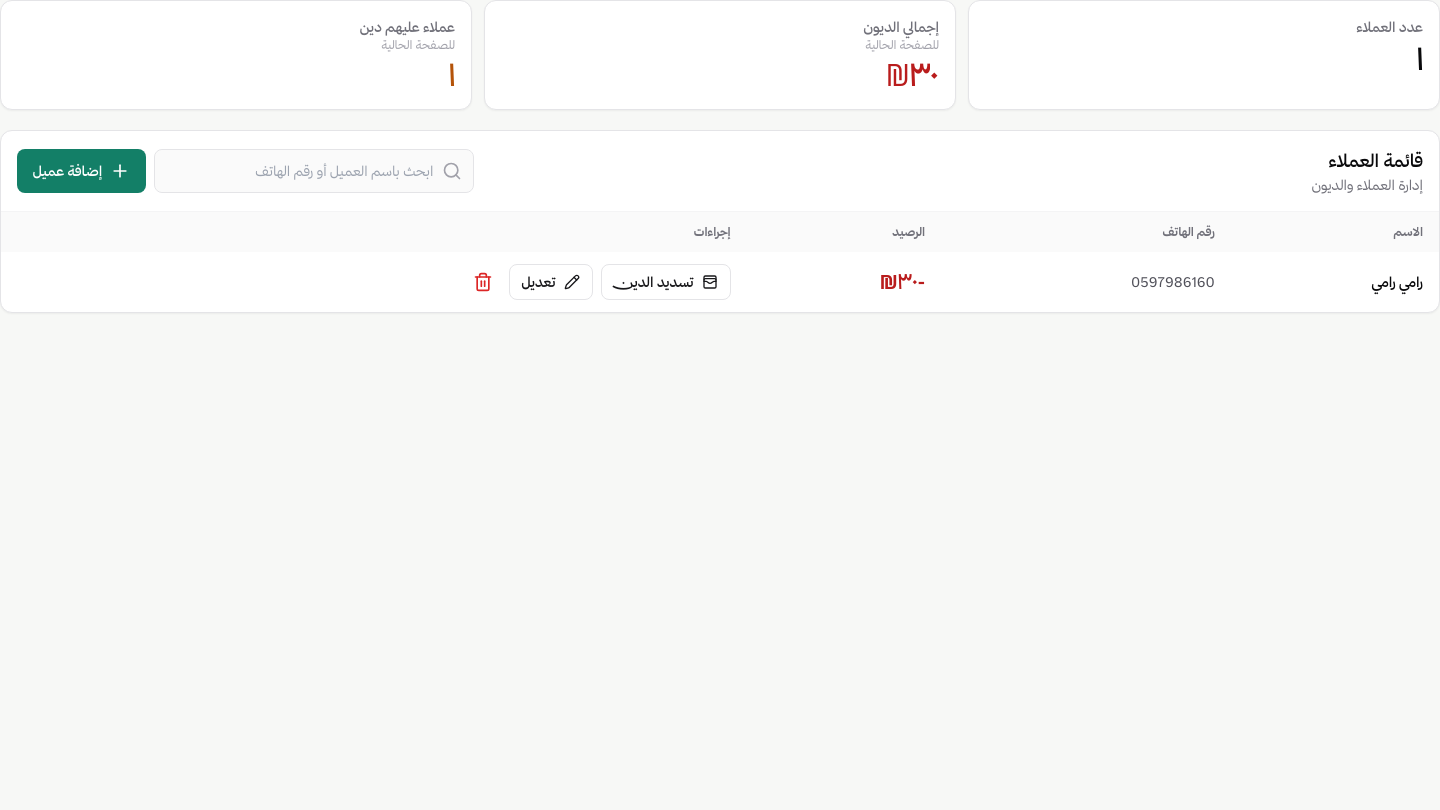
Test: CustomersPage details modal › keeps invoice products visible when the debt has payments
Click the button "تسديد الدين". click: (666, 282)
box: [601,264,731,300]
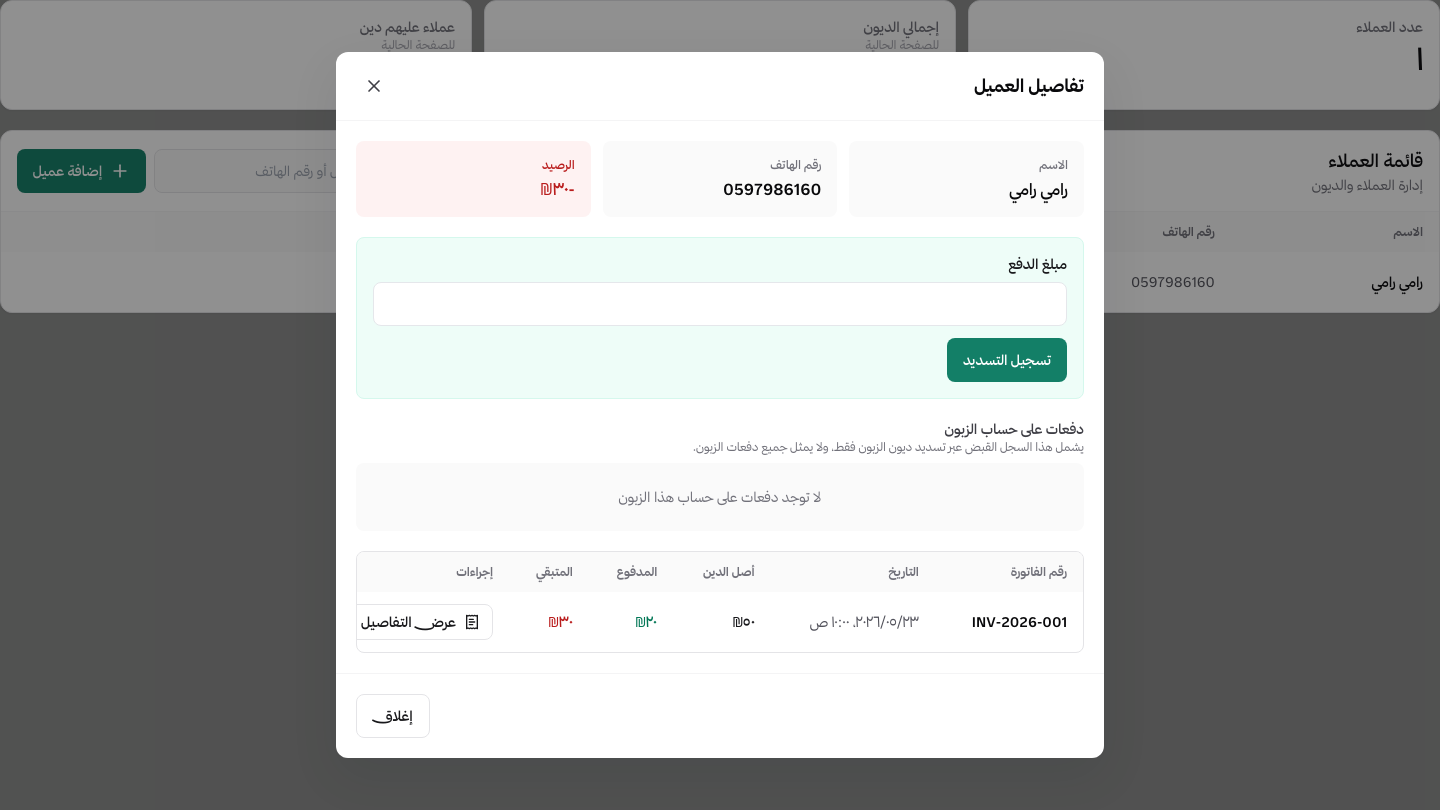
Click the button "عرض التفاصيل". click: (421, 622)
box: [348,604,493,640]
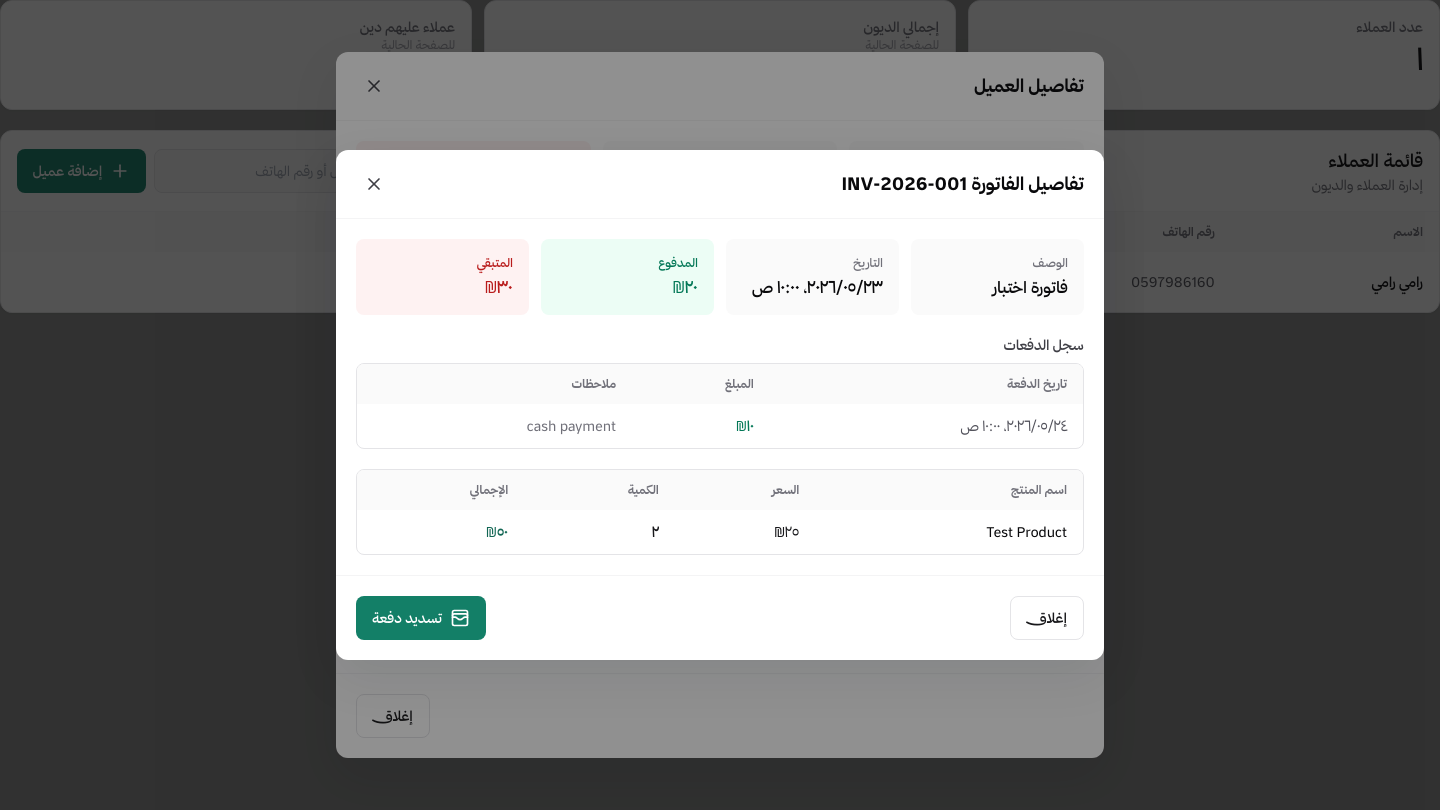
Expected: the dialog shows "cash payment", [527,417,616,435]
Expected: the dialog shows "Test Product", [986,523,1067,541]
